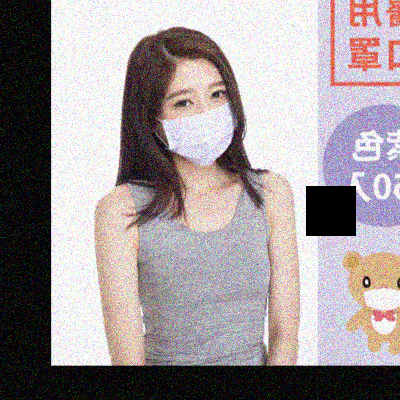with_mask: (153, 77, 237, 165)
